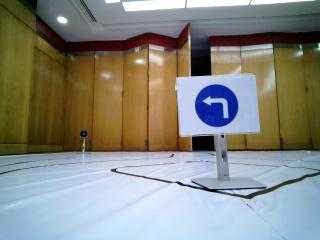left: (179, 73, 253, 134)
